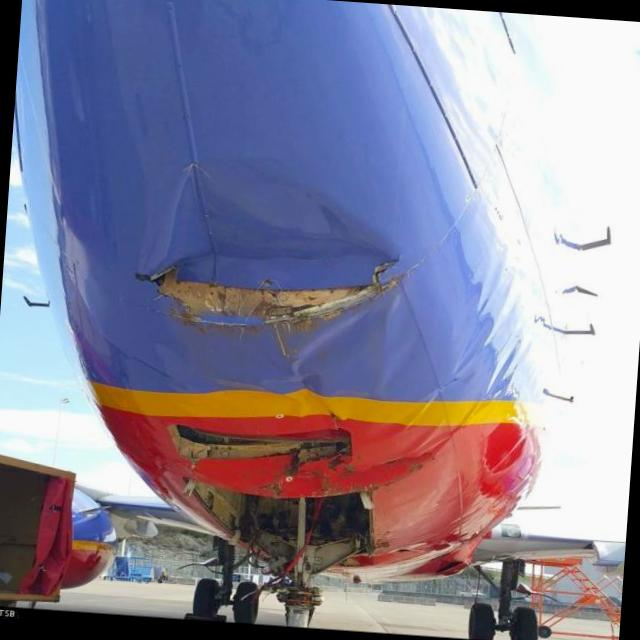dent: (155, 162, 405, 282), (294, 282, 400, 378)
